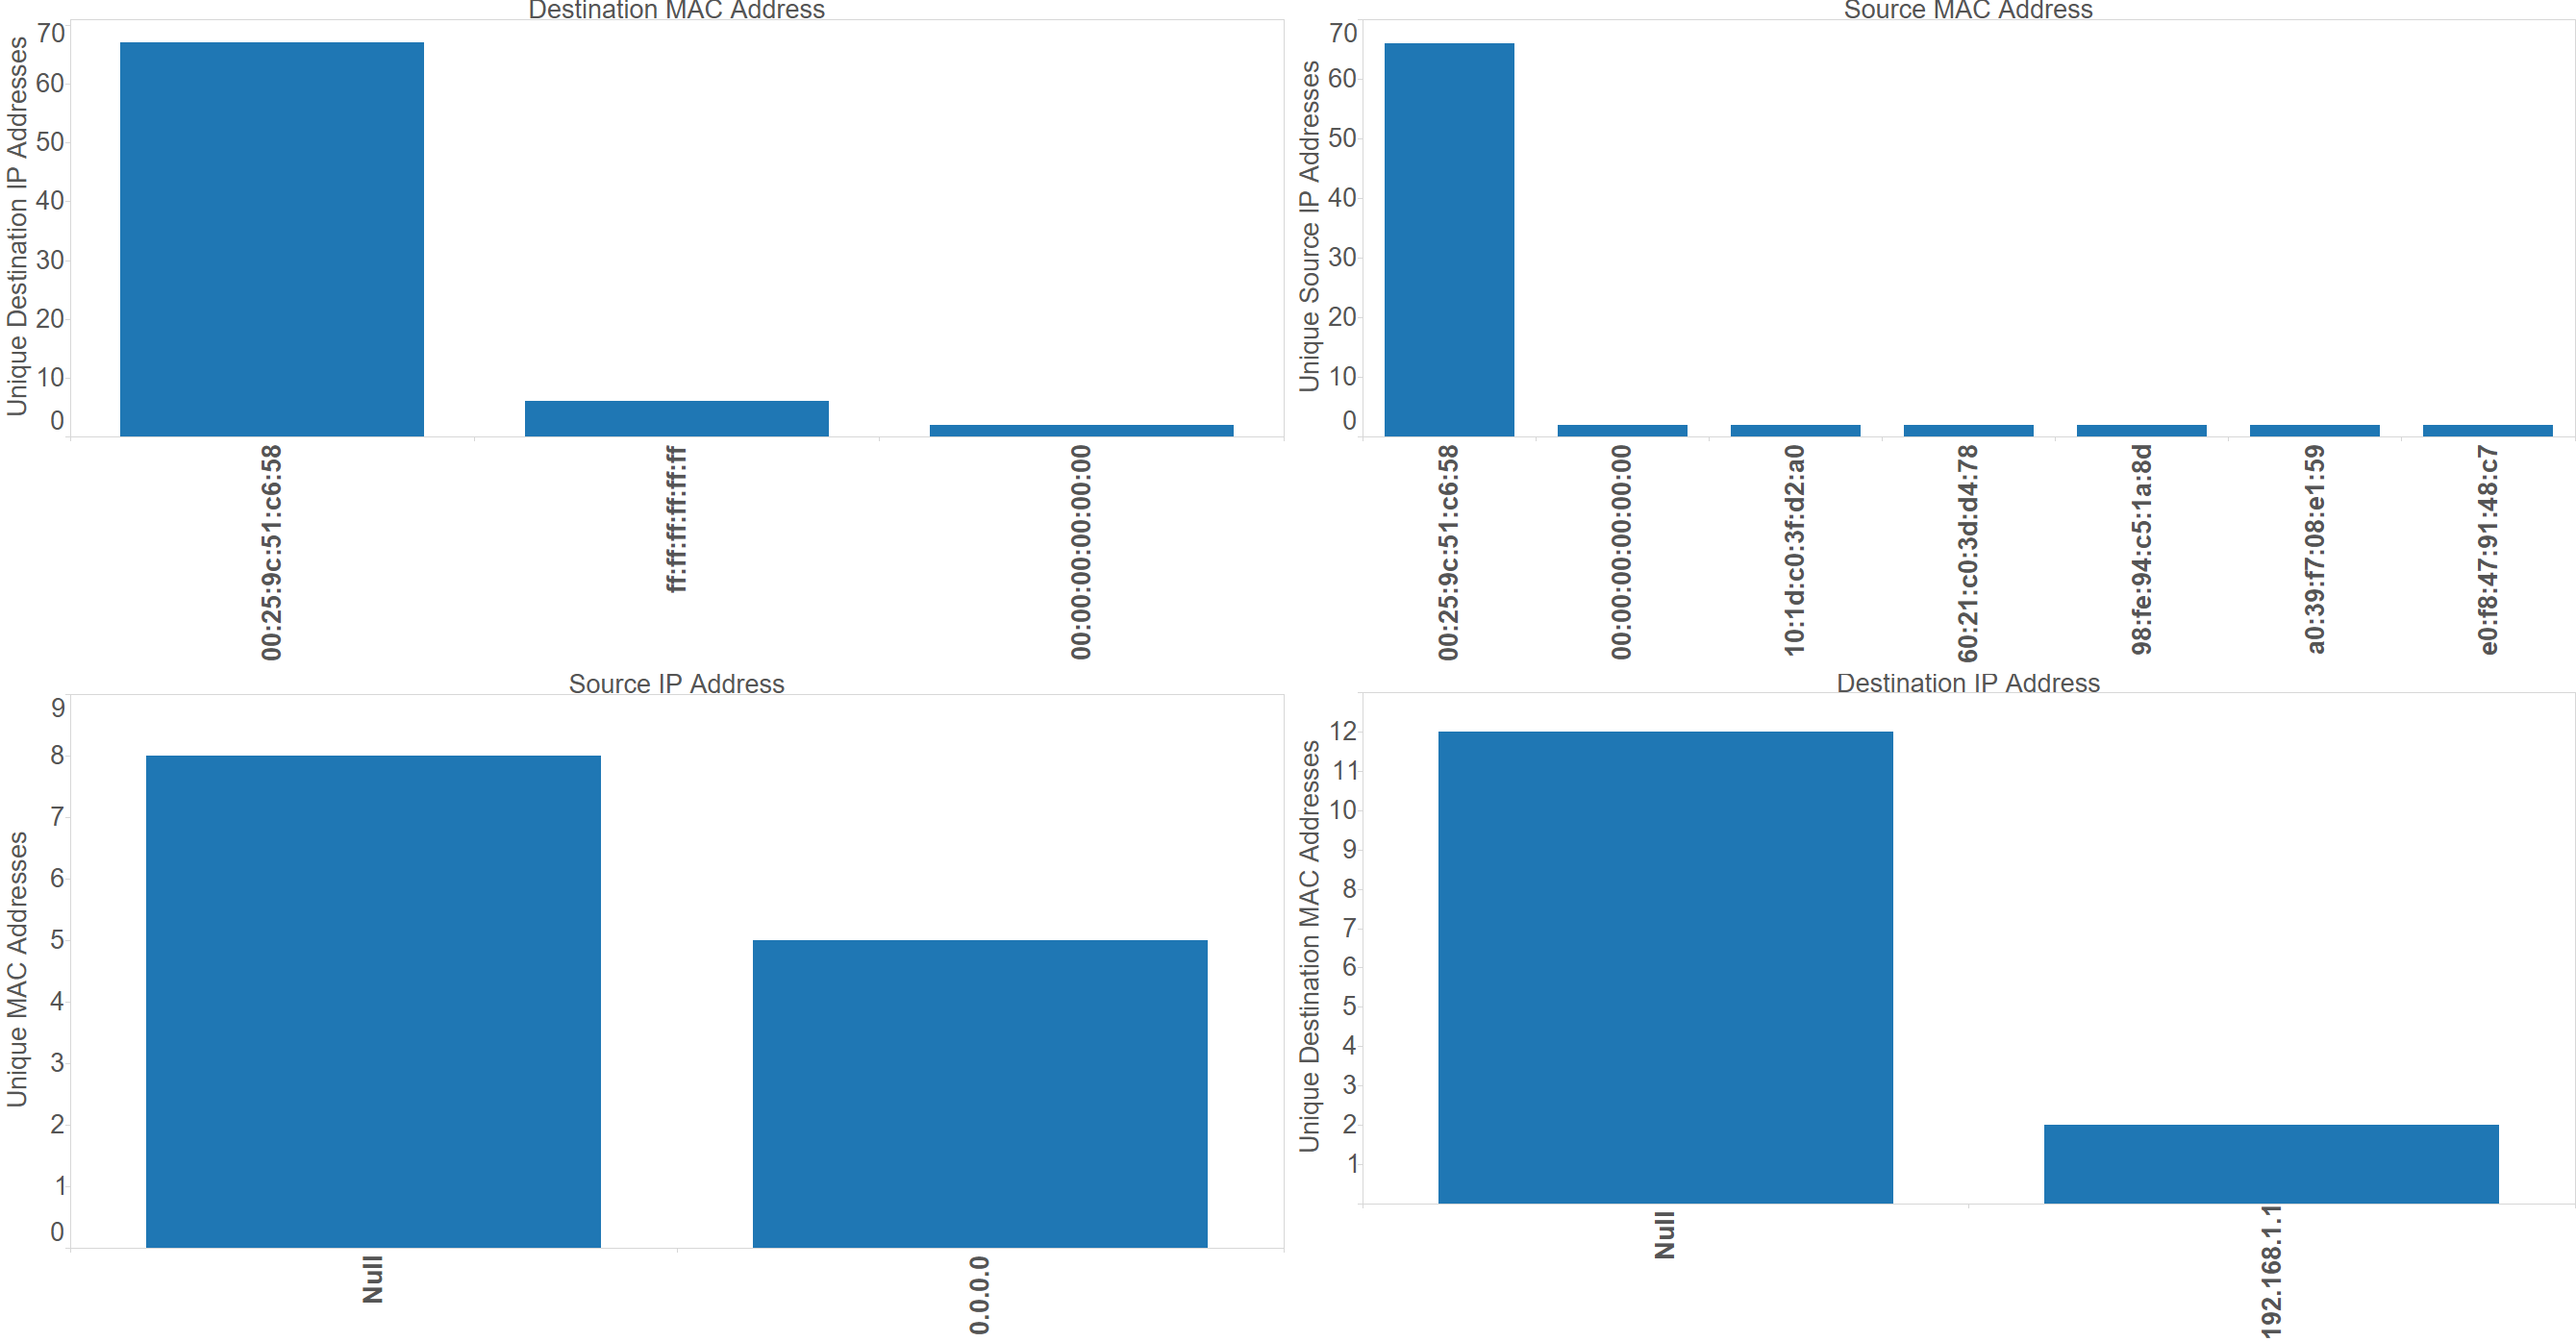

The page's visual inventory and layout, read from the dashboard file:
{"tool":"tableau","page":{"name":"IP vs MAC Correspondence","canvas":[1000,1000],"units":"permille","ordinal":0},"visuals":[{"type":"worksheet","title":"IP Addresses per Dst MAC","mark":"Automatic","rows":["ipdst"],"cols":["hwdst"],"box":[0,0,500,500]},{"type":"worksheet","title":"IP Addresses per Src MAC","mark":"Automatic","rows":["ipsrc"],"cols":["hwsrc"],"box":[500,0,500,500]},{"type":"worksheet","title":"MAC Addresses per Src IP","mark":"Automatic","rows":["hwsrc"],"cols":["ipsrc"],"box":[0,500,500,500]},{"type":"worksheet","title":"MAC Addresses per Dst IP","mark":"Automatic","rows":["hwdst"],"cols":["ipdst"],"box":[500,500,500,500]}]}

Visuals, with their boxes on the dashboard's canvas, which has no fixed pixel size, in thousandths of its width and height (x1, y1, x2, y2). These are canvas units, not pixel positions in the 2576x1342 screenshot, which may show the page scaled, cropped or inside an application window:
"IP Addresses per Dst MAC" worksheet: locate(0, 0, 500, 500)
"IP Addresses per Src MAC" worksheet: locate(500, 0, 1000, 500)
"MAC Addresses per Src IP" worksheet: locate(0, 500, 500, 1000)
"MAC Addresses per Dst IP" worksheet: locate(500, 500, 1000, 1000)
